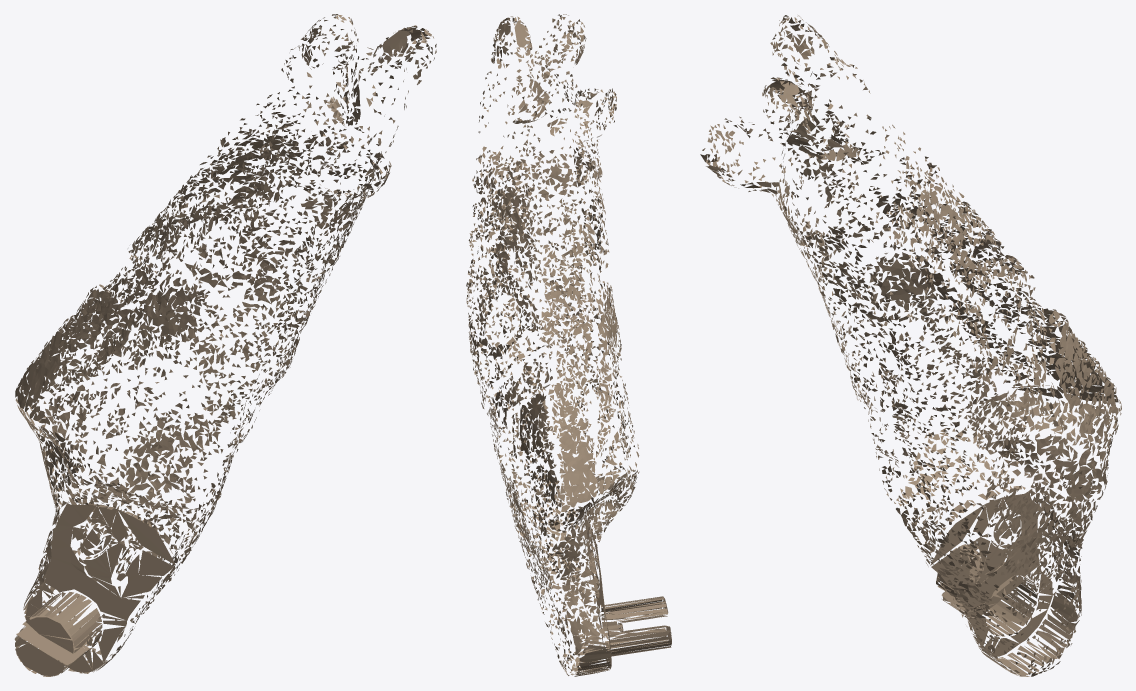
File: rocky_mano_izquierda.obj
The picture shows the model from 3 angles, left to right: view 1: azimuth 30°, elevation 25°; view 2: azimuth 150°, elevation 25°; view 3: azimuth 270°, elevation 25°; orthographic projection. The views are drawn at different scales.
Size of the model in its own units: 0.2133 by 0.4485 by 0.2378.
1 material, 1 textured.
